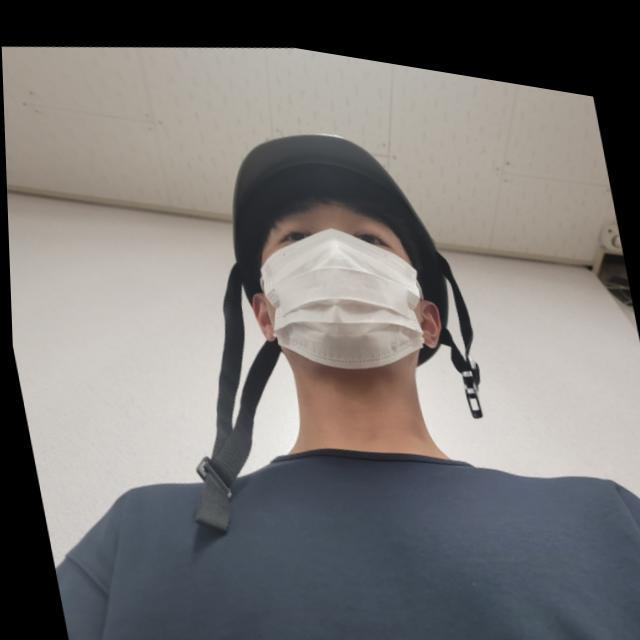Helmet: (209, 123, 484, 401)
